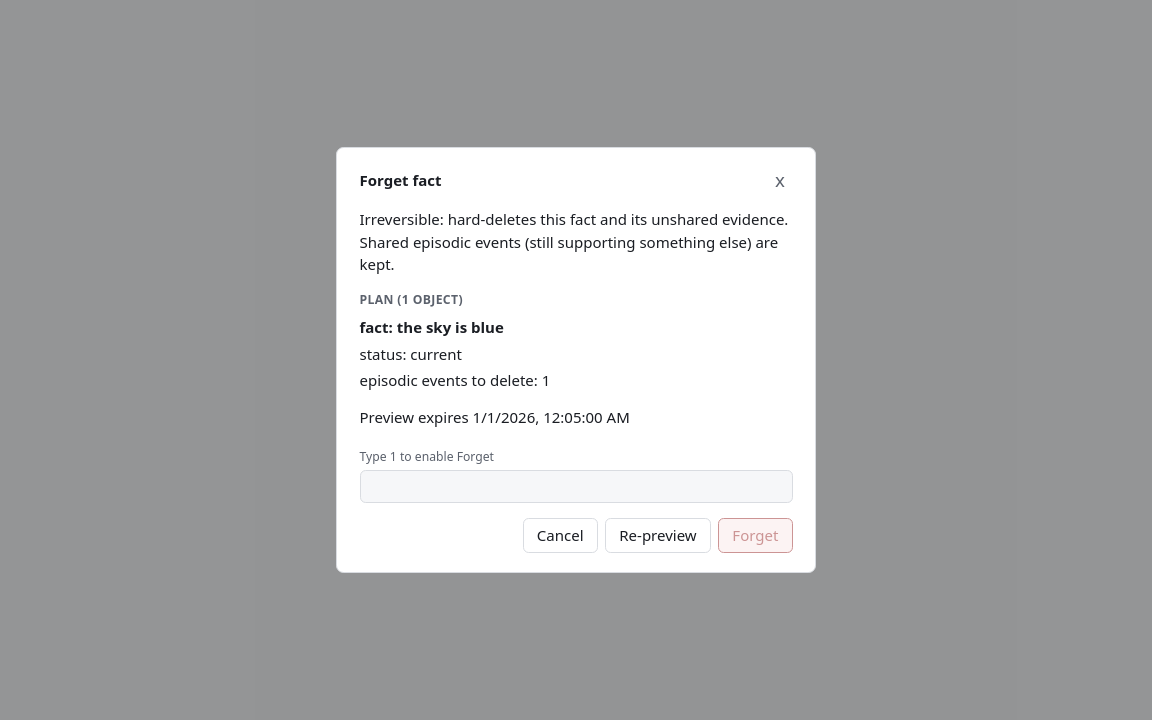
Scenario: ForgetDialog › cannot execute before a preview resolves, and stays disabled until the typed count matches
Expected: the button "Forget" is disabled, x1=718 y1=518 x2=792 y2=553
Type "9" into the field labelled "Type 1 to enable Forget" at (576, 486), box x1=360 y1=470 x2=792 y2=502
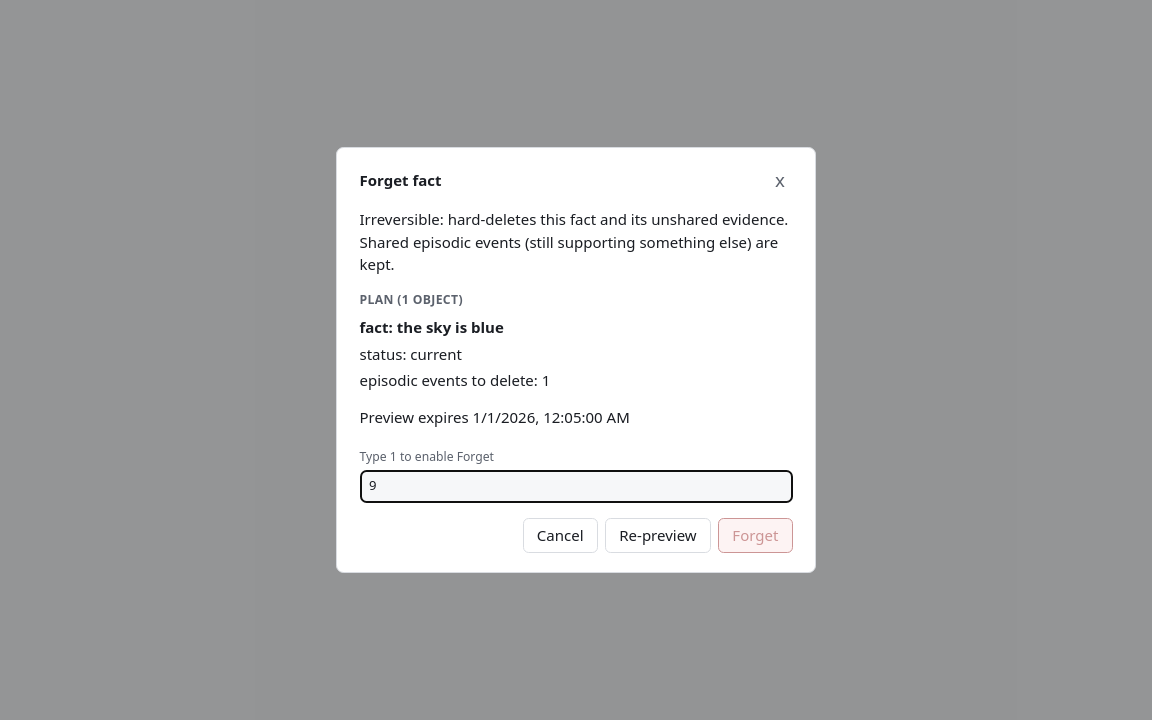
Expected: the button "Forget" is disabled, x1=718 y1=518 x2=792 y2=553
Replace the text in the field labelled "Type 1 to enable Forget" with "1" at (576, 486), box x1=360 y1=470 x2=792 y2=502
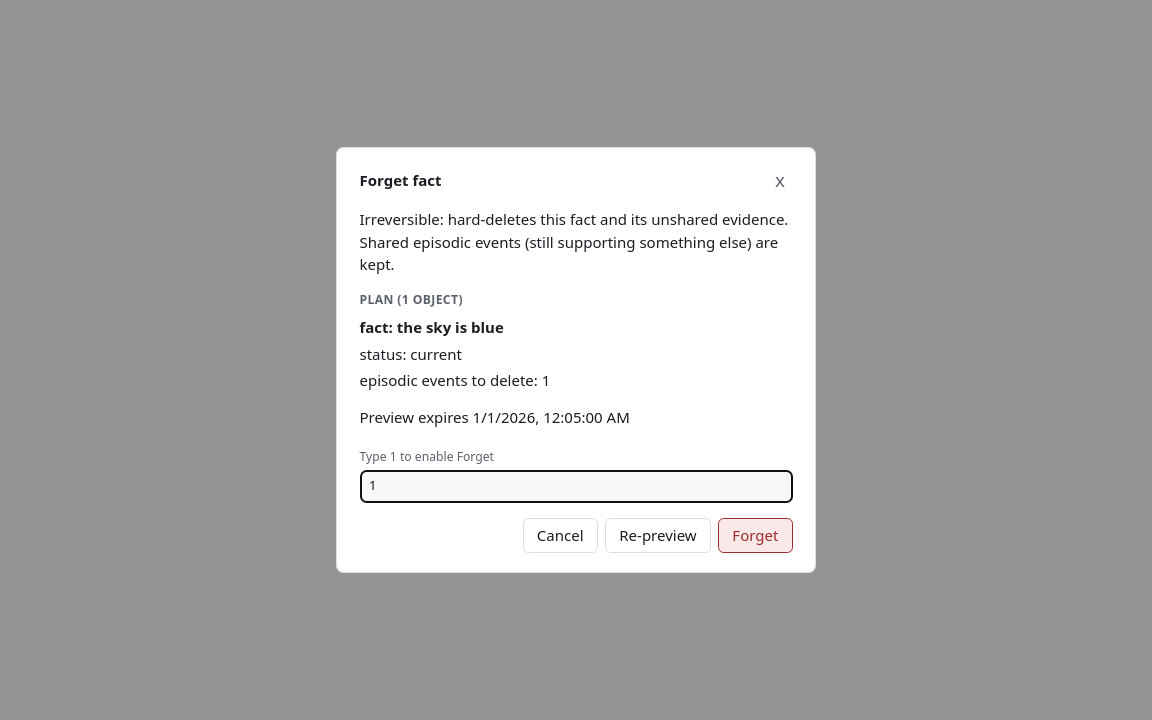
Result: the button "Forget" is enabled at x1=718 y1=518 x2=792 y2=553
